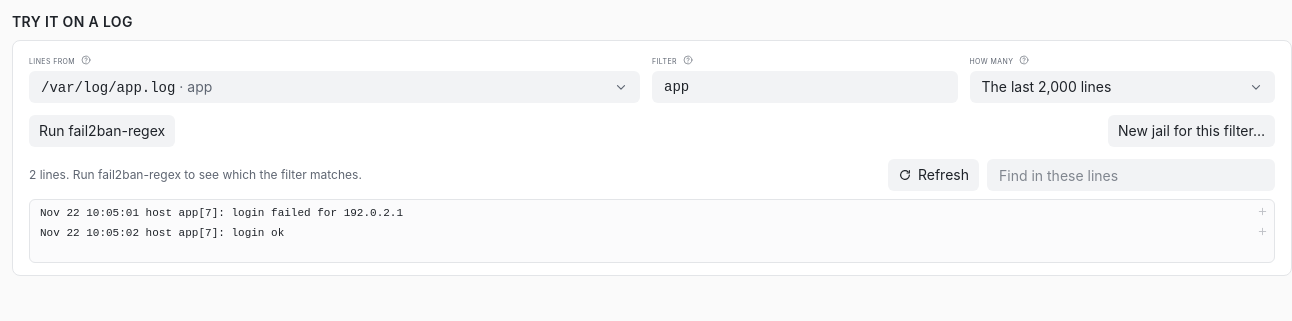
Test: the tester › shows the log's lines, then what the filter made of each
The width and height of the screenshot is (1292, 321).
Expected: the text "Nov 22 10:05:02 host app[7]: login ok" is shown, left=40, top=227, right=284, bottom=239
Click the button "Run fail2ban-regex" at (102, 131), box left=29, top=115, right=175, bottom=147
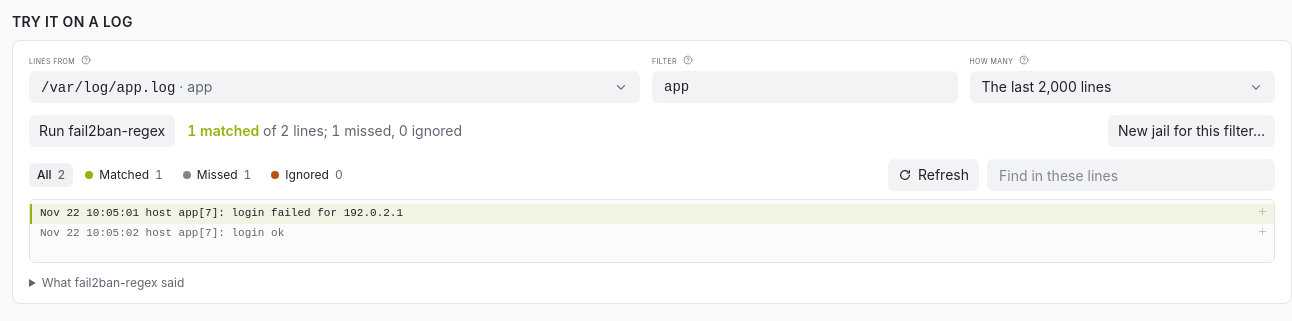
Click the button "Matched 1" at (124, 175), box left=77, top=163, right=171, bottom=187
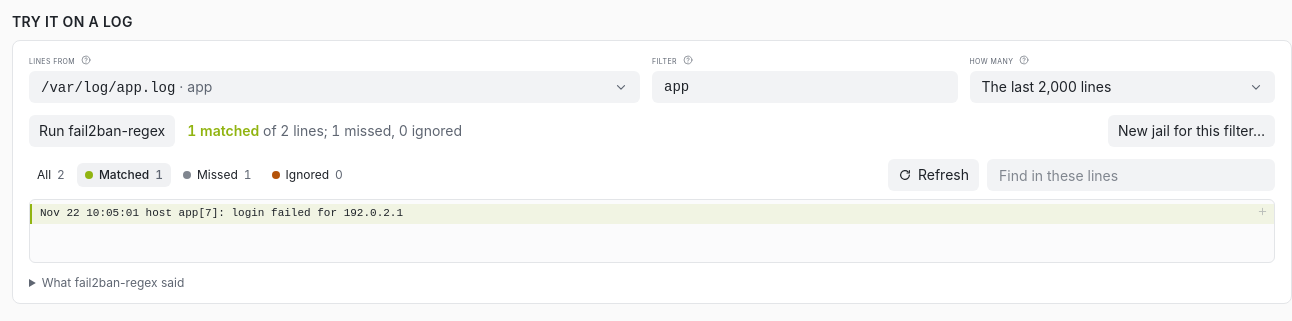
Expected: the text "Nov 22 10:05:01 host app[7]: login failed for 192.0.2.1" is shown, left=40, top=207, right=403, bottom=219
Expected: the text "Nov 22 10:05:02 host app[7]: login ok" is gone
